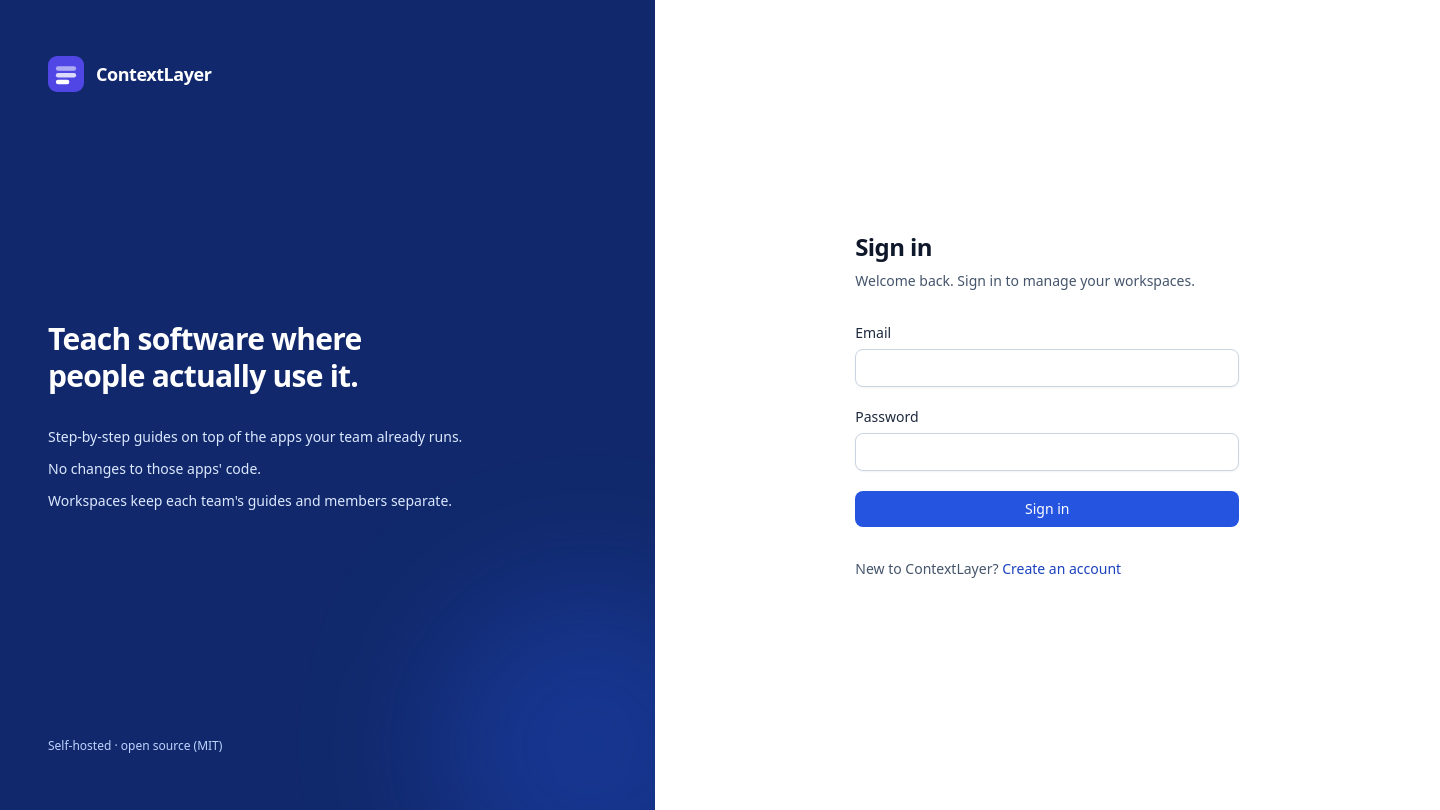
Test case: LoginPage › explains rate limiting with the retry delay
Type "alice@example.com" into the field labelled "Email" at (1047, 368), box x1=855 y1=349 x2=1239 y2=387
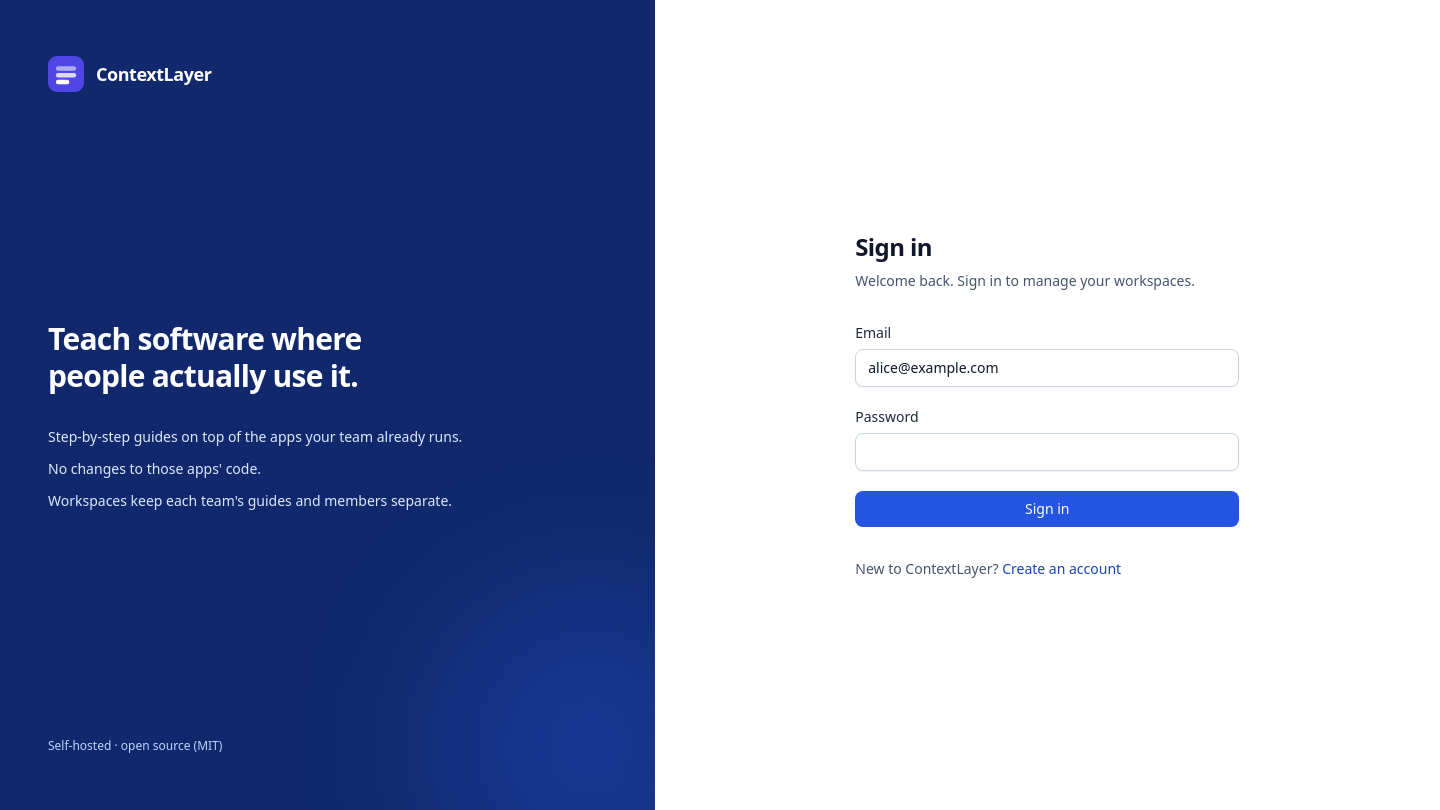
Type "whatever" into the password field labelled "Password" at (1047, 452), box x1=855 y1=433 x2=1239 y2=471
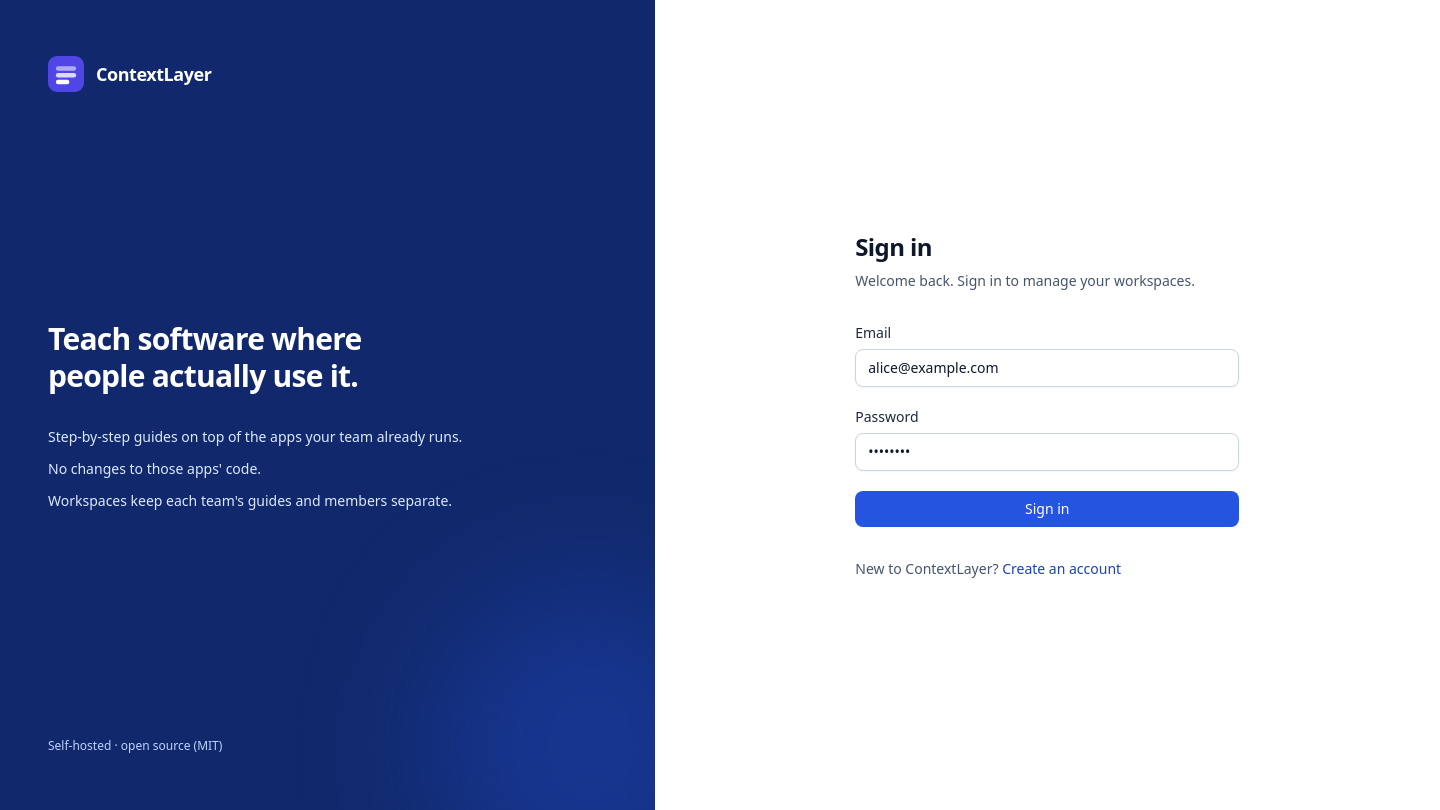
Submit the form, box x1=855 y1=323 x2=1239 y2=527
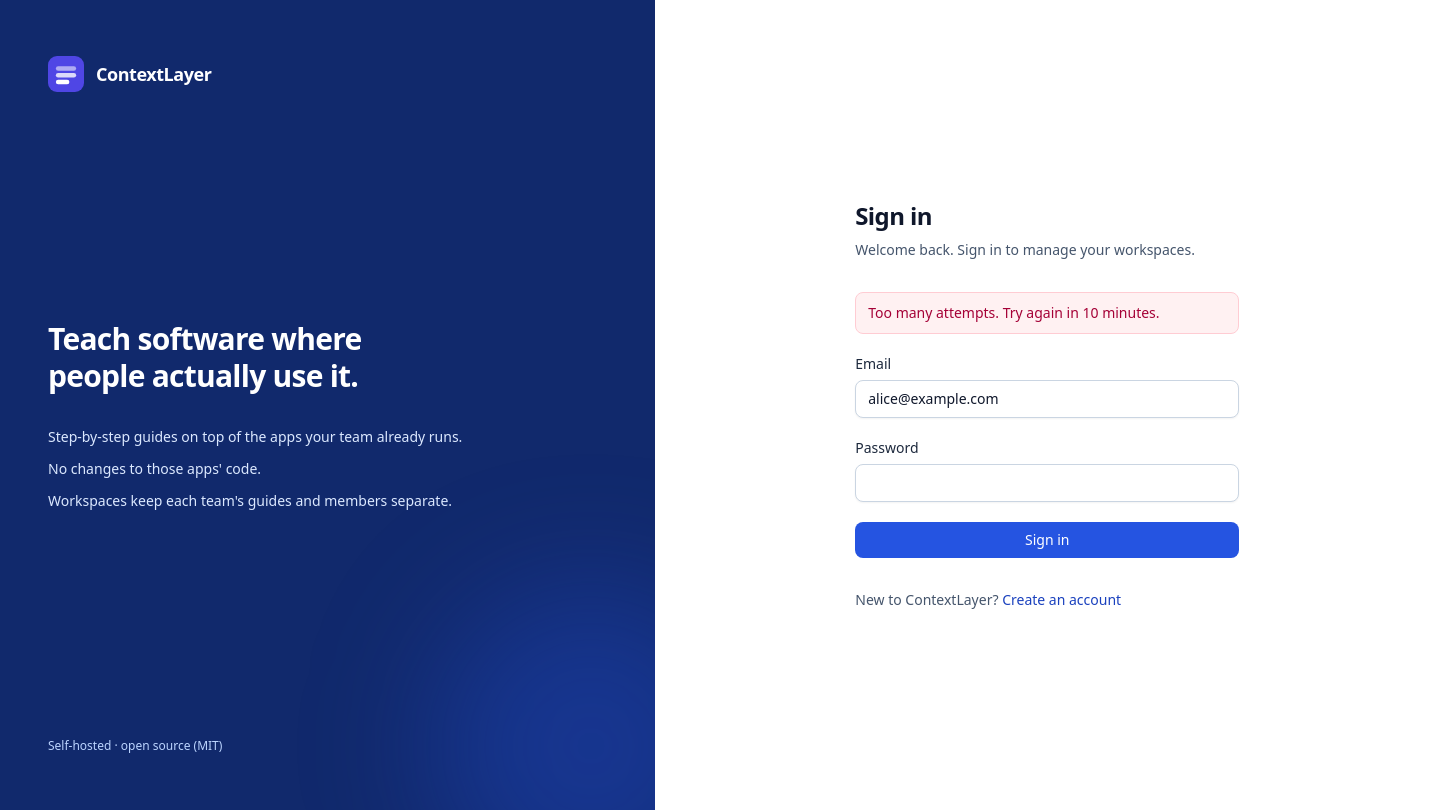
Expected: the message "Too many attempts. Try again in 10 minutes." is shown, x1=855 y1=292 x2=1239 y2=334
